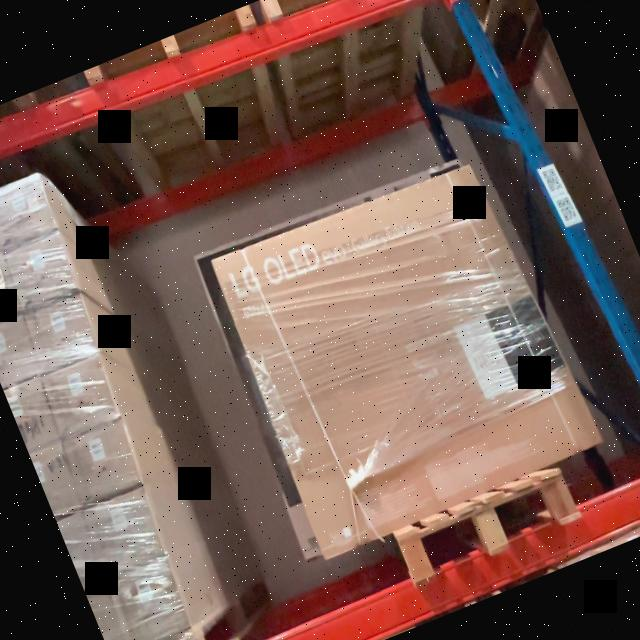box: (211, 158, 584, 552)
